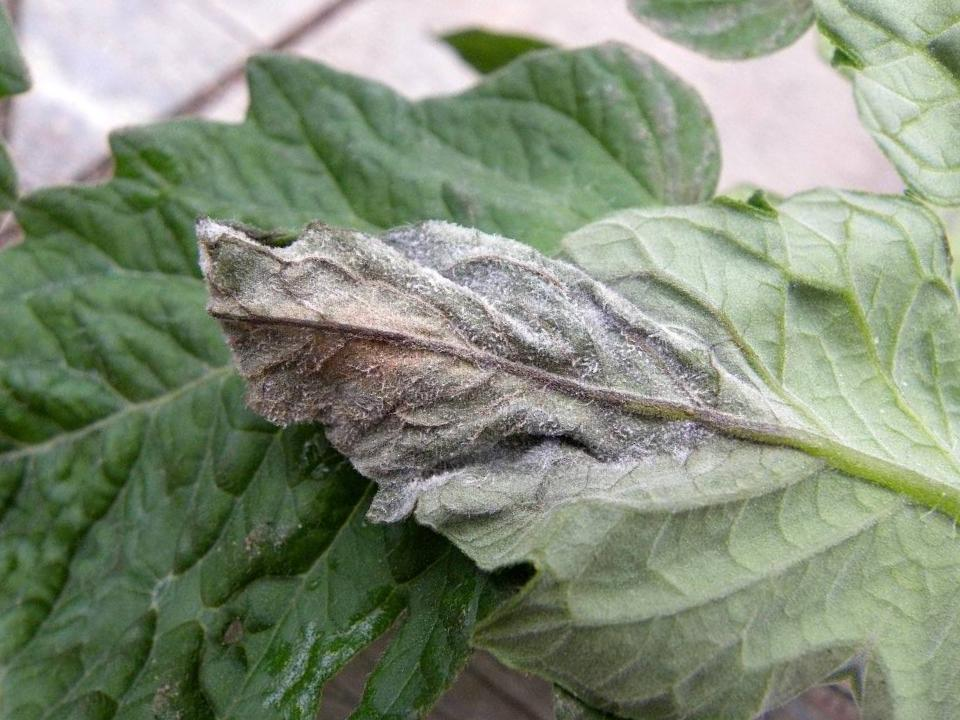Tomato leaf late blight: (70, 0, 960, 720)
